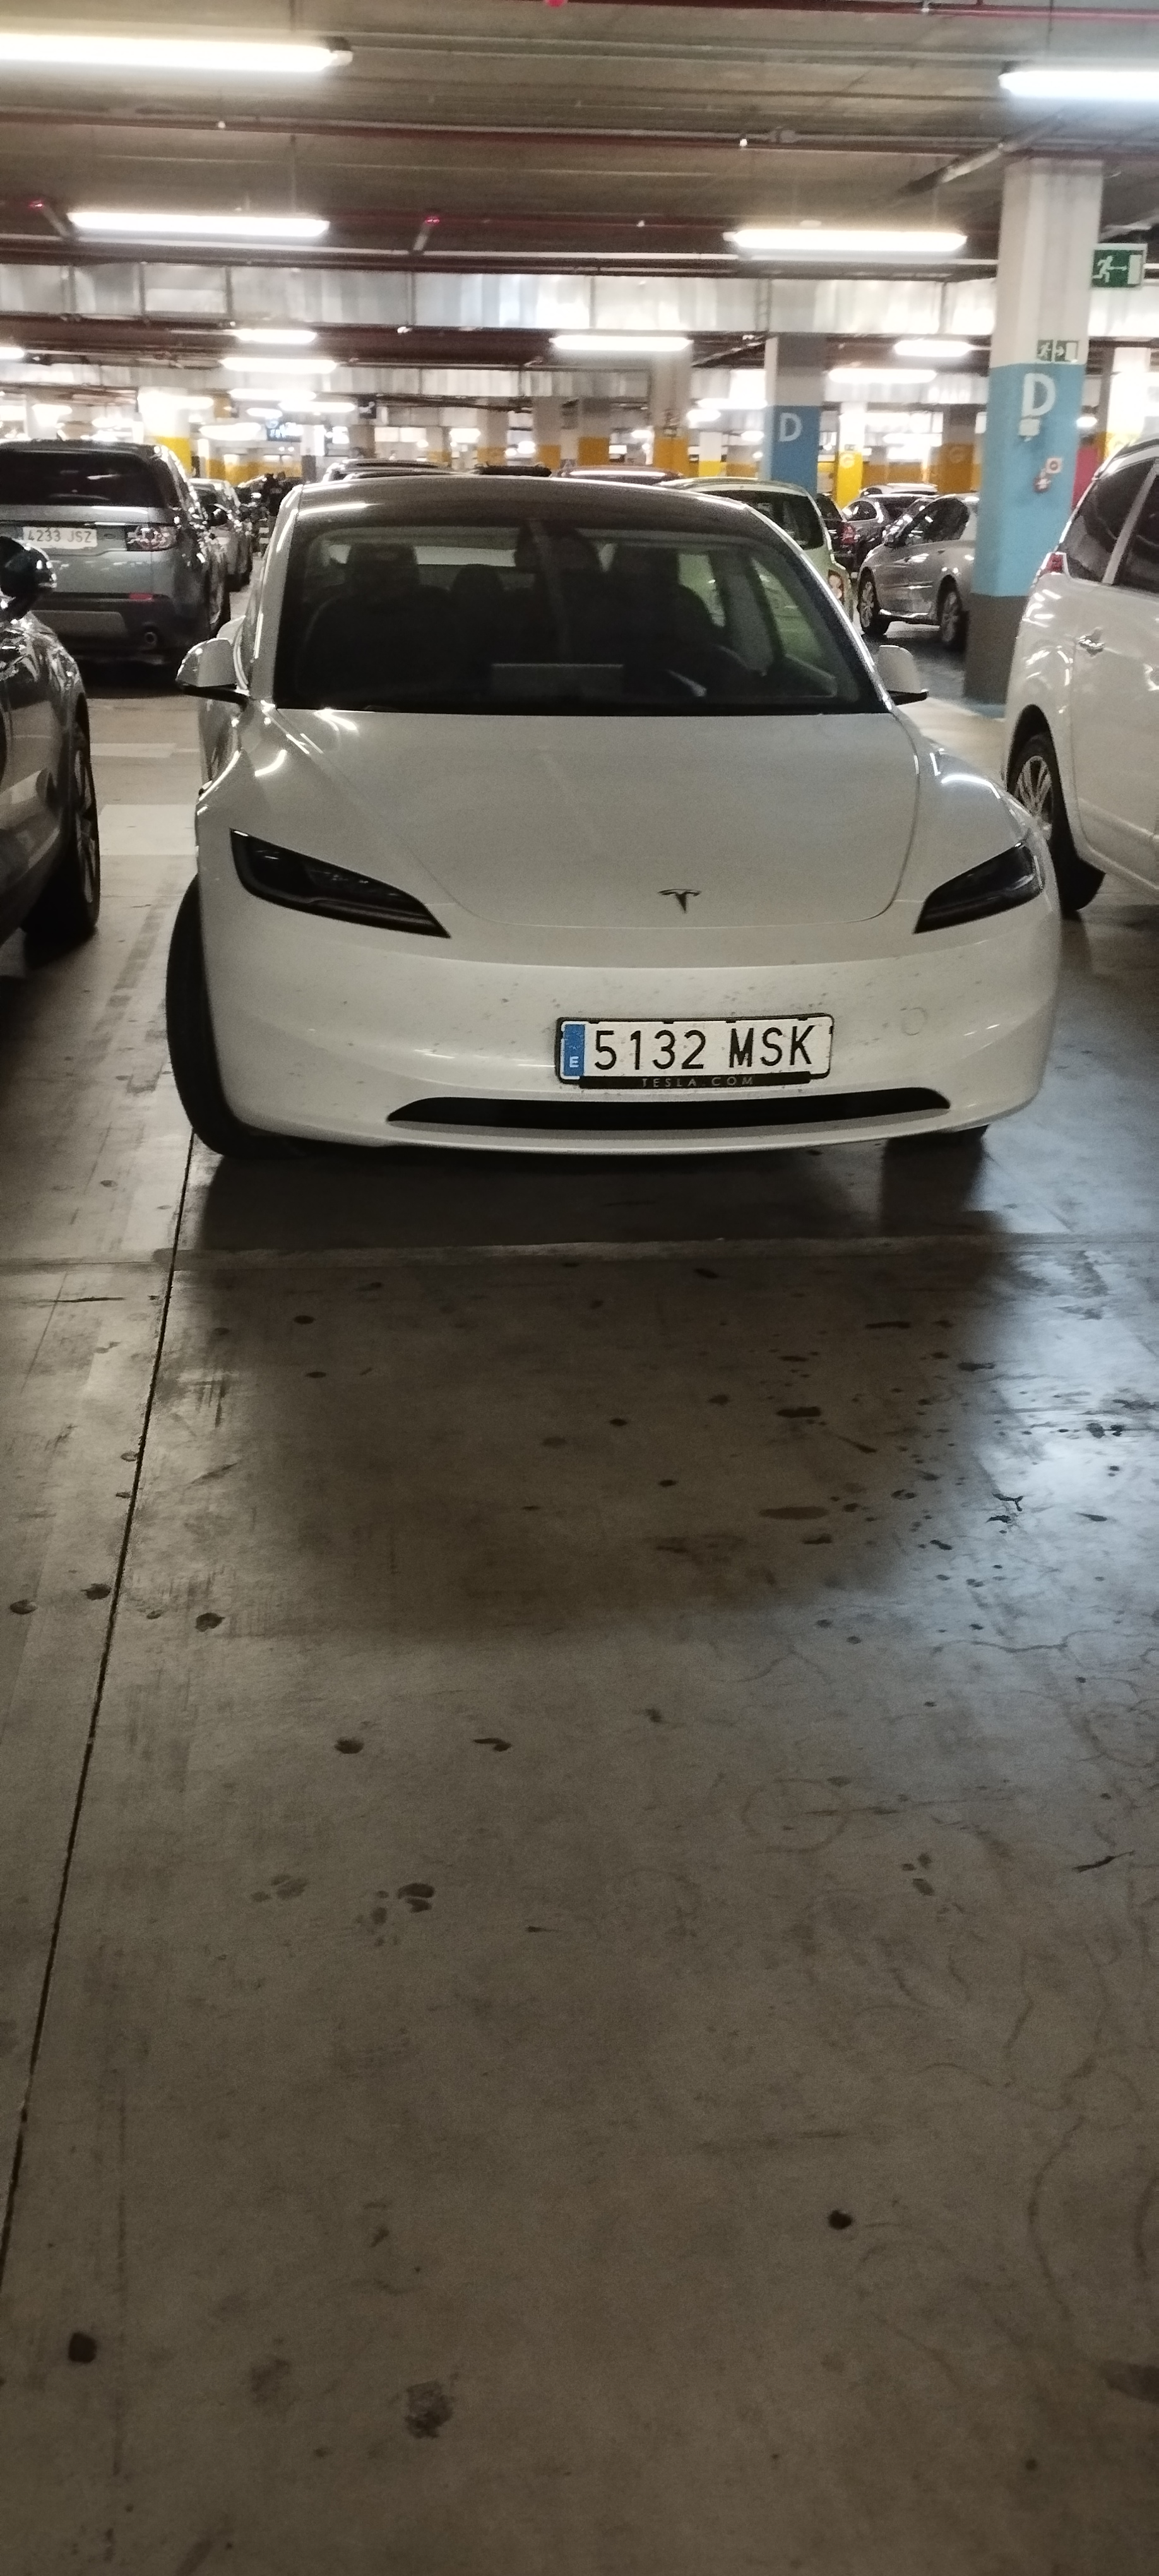Car: (165, 467, 1062, 1167)
Plate: (555, 1012, 829, 1083)
